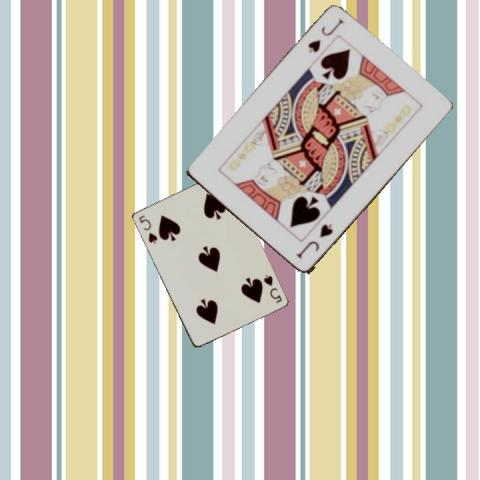5s: (135, 212, 159, 245), (260, 271, 283, 305)
Js: (292, 221, 334, 260), (305, 15, 345, 55)
